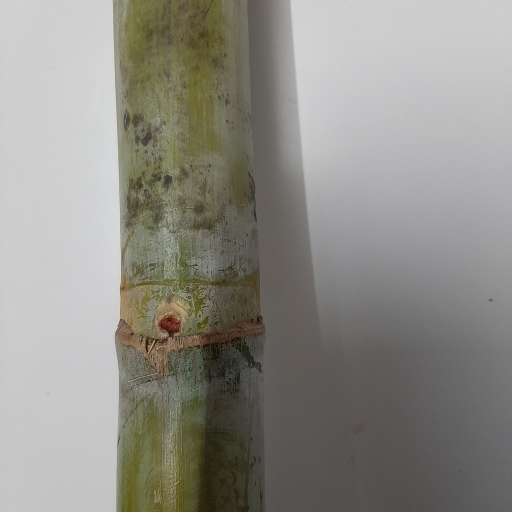Damage_Bud: (155, 308, 185, 337)
